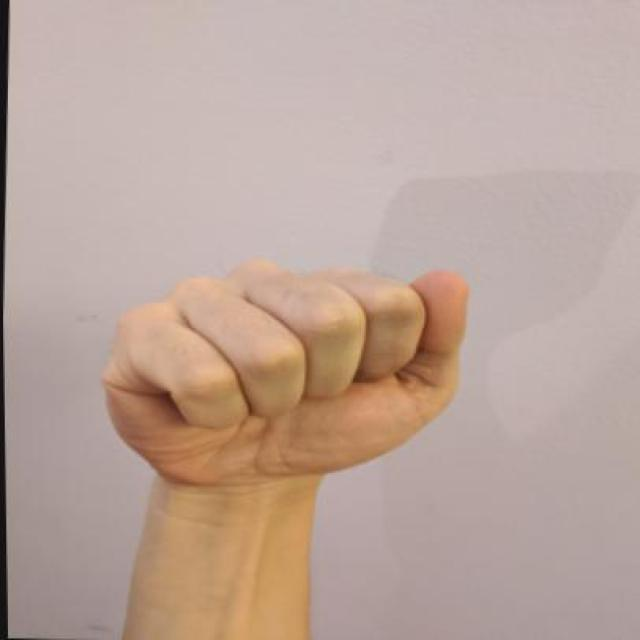A: (82, 241, 476, 551)
